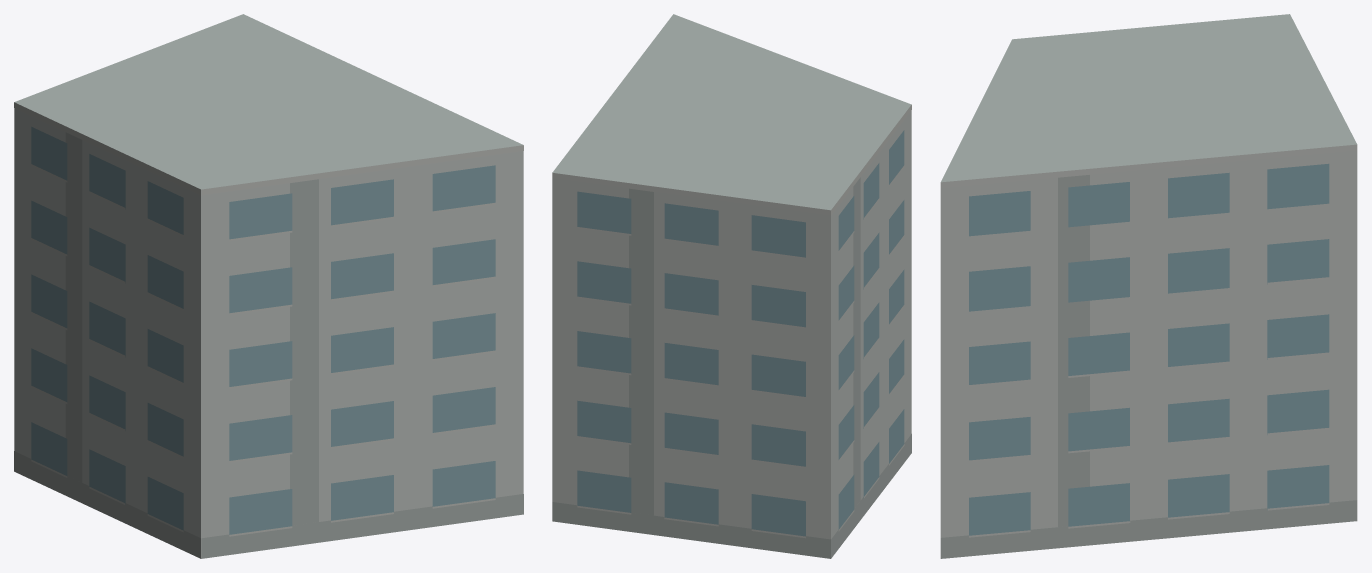
File: residential-07f457dc-9eac-4a01-a998-ee307d173356.glb
3 views of the same model, side by side, from view 1: azimuth 30°, elevation 25°; view 2: azimuth 150°, elevation 25°; view 3: azimuth 270°, elevation 25° (orthographic). The views are drawn at different scales.
Visible parts, largest first — view 1: residential-07f457dc-9eac-4a01-a998-ee307d173356.tmp; view 2: residential-07f457dc-9eac-4a01-a998-ee307d173356.tmp; view 3: residential-07f457dc-9eac-4a01-a998-ee307d173356.tmp.
Boxes of the visible parts, x1,y1,x2,y2 form: residential-07f457dc-9eac-4a01-a998-ee307d173356.tmp: (14, 14, 523, 558); residential-07f457dc-9eac-4a01-a998-ee307d173356.tmp: (552, 14, 911, 558); residential-07f457dc-9eac-4a01-a998-ee307d173356.tmp: (940, 14, 1357, 558).
Size of the model in its own units: 14.63 by 15.25 by 15.31.
